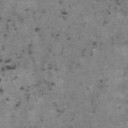oxide scale of temperature system: (0, 7, 103, 108), (102, 0, 128, 27), (57, 0, 68, 20), (55, 107, 66, 118), (122, 40, 128, 45), (98, 78, 103, 84), (92, 107, 96, 114), (68, 125, 74, 128), (66, 37, 70, 41), (55, 34, 60, 36)
